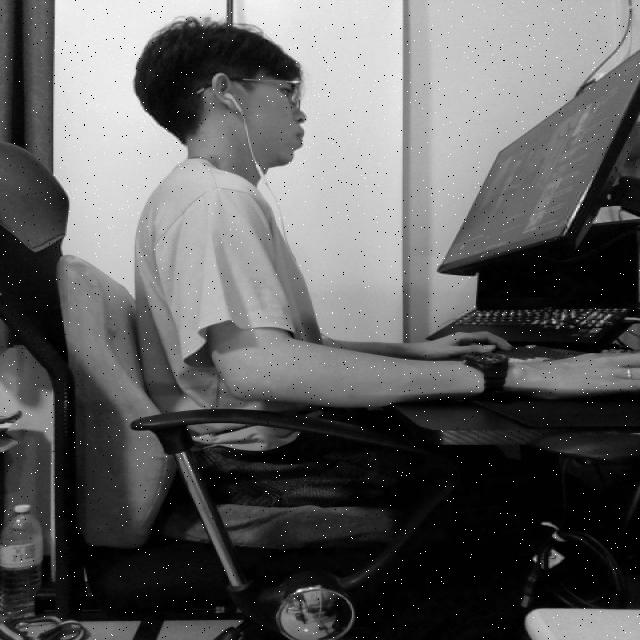Good: (103, 4, 481, 487)
